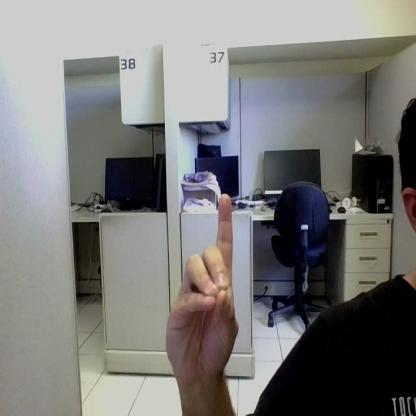D: (164, 194, 238, 358)
